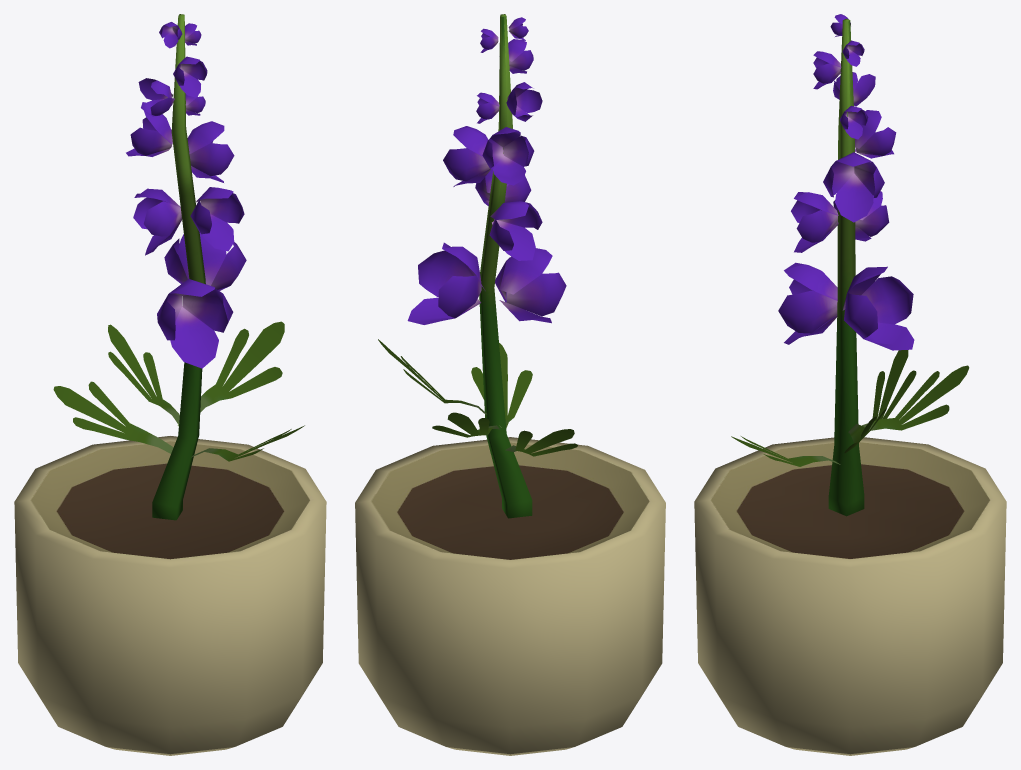
Rendered from wolfsbane.fbx.
3 renders of one model, left to right at view 1: azimuth 30°, elevation 25°; view 2: azimuth 150°, elevation 25°; view 3: azimuth 270°, elevation 25°, orthographic.
Visible parts, largest first — view 1: Wolfsbane; view 2: Wolfsbane; view 3: Wolfsbane.
Boxes of the visible parts, x1,y1,x2,y2 form: Wolfsbane: [14, 14, 326, 755]; Wolfsbane: [355, 14, 665, 755]; Wolfsbane: [694, 14, 1006, 755].
Bounding box in the file's own units: 25.31 × 62 × 25.31.
